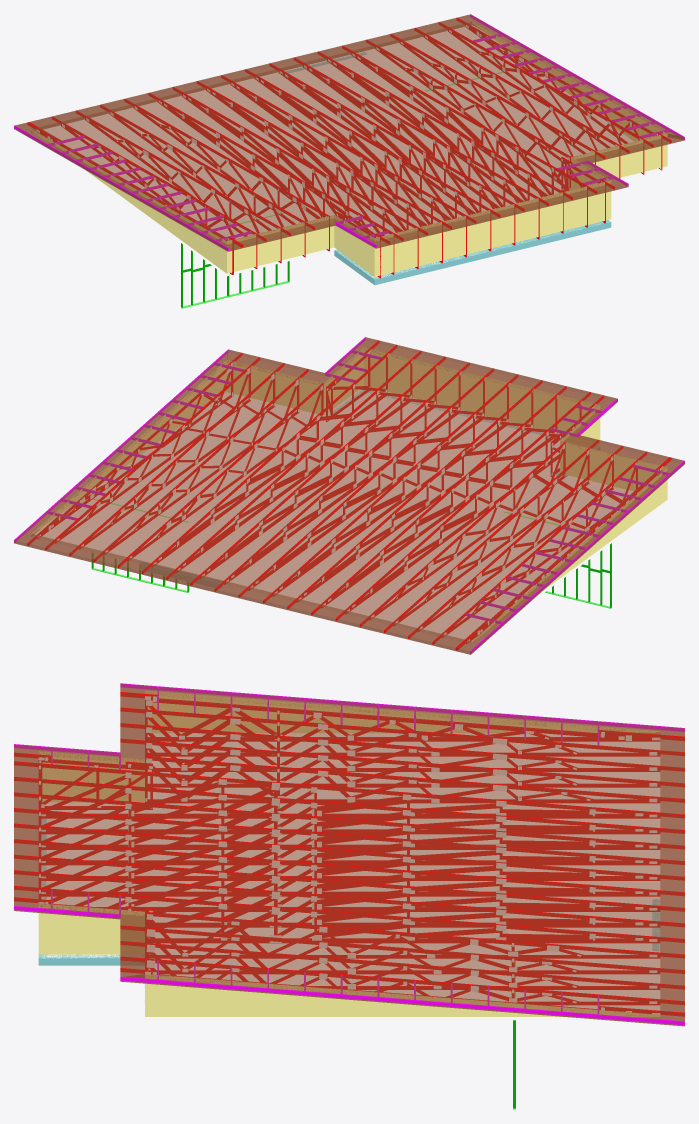
The picture shows the model from 3 angles, top to bottom: view 1: azimuth 30°, elevation 25°; view 2: azimuth 150°, elevation 25°; view 3: azimuth 270°, elevation 25°; orthographic projection. The views are drawn at different scales.
Parts seen in each view (by area): view 1: Entity (×11), TrussTopChord (×20), TrussBottomChord (×11); view 2: Entity (×13), TrussTopChord (×21), TrussBottomChord (×16); view 3: Entity (×8), TrussTopChord (×20), TrussBottomChord (×17).
Part boxes in pixels (x1=…): Entity (×11): x1=14, y1=14, x2=684, y2=308; TrussTopChord (×20): x1=14, y1=14, x2=684, y2=250; TrussBottomChord (×11): x1=158, y1=30, x2=644, y2=274; Entity (×13): x1=14, y1=337, x2=684, y2=654; TrussTopChord (×21): x1=14, y1=344, x2=684, y2=653; TrussBottomChord (×16): x1=55, y1=395, x2=613, y2=631; Entity (×8): x1=14, y1=684, x2=684, y2=1026; TrussTopChord (×20): x1=14, y1=683, x2=684, y2=1025; TrussBottomChord (×17): x1=41, y1=737, x2=659, y2=989.
Size of the model in its own units: 17 by 4.03 by 16.4.
